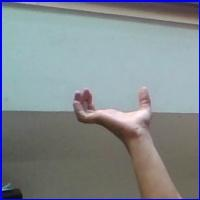space: (66, 83, 161, 152)
